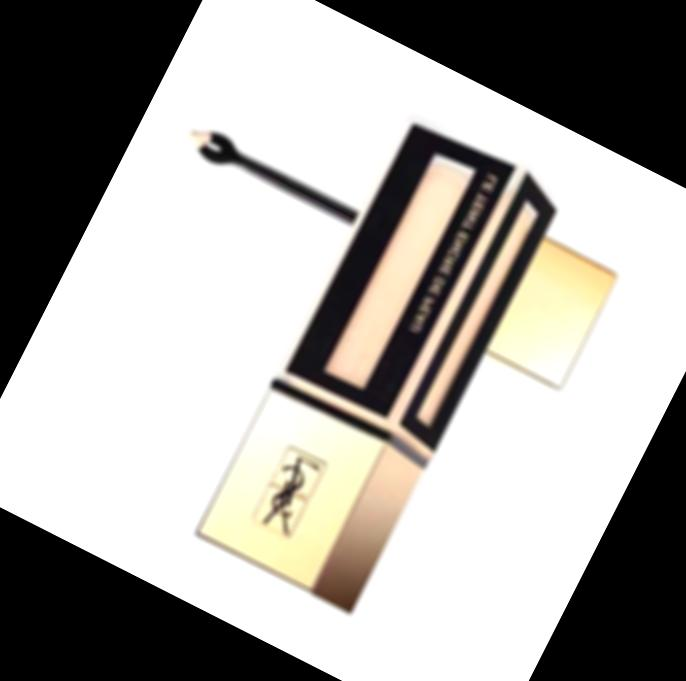cosmetic: (196, 109, 571, 615)
